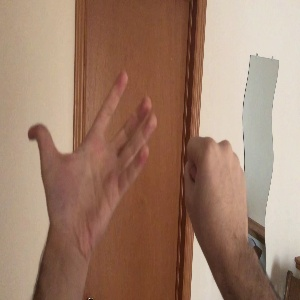hand: (28, 71, 158, 233), (184, 138, 248, 244)
